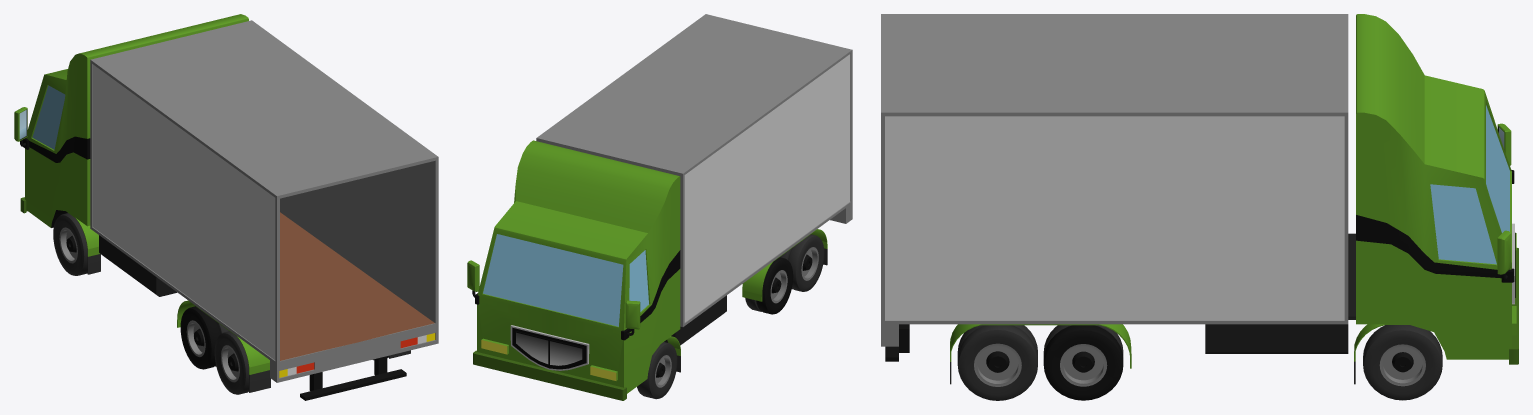
The model's file is delivery_truck.glb.
3 views of the same model, side by side, from view 1: azimuth 30°, elevation 25°; view 2: azimuth 150°, elevation 25°; view 3: azimuth 270°, elevation 25° (orthographic). The views are drawn at different scales.
Visible parts, largest first — view 1: delivery_truck; view 2: delivery_truck; view 3: delivery_truck.
Part boxes in pixels (left/top/right/bottom): delivery_truck: left=14, top=14, right=438, bottom=400; delivery_truck: left=467, top=14, right=852, bottom=400; delivery_truck: left=881, top=14, right=1518, bottom=400.
Size of the model in its own units: 3.5 by 4.1 by 8.19.
Materials: 1 (1 with a texture image).
